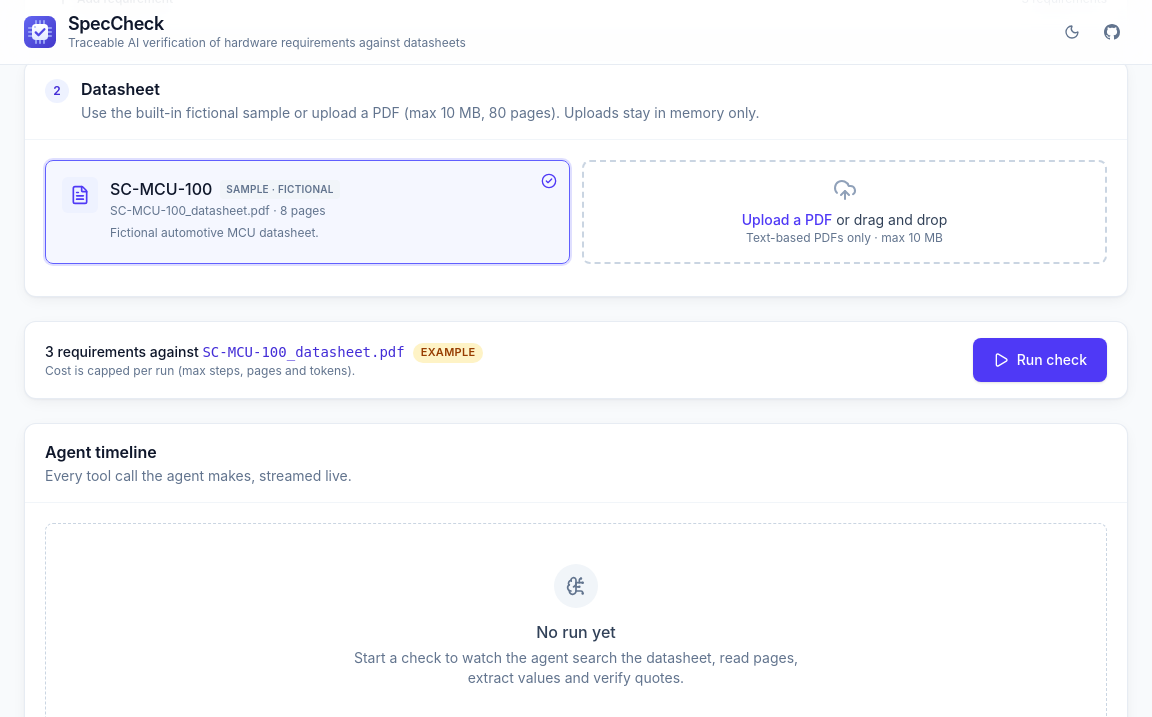
Test case: App flow › reports a failed start
The width and height of the screenshot is (1152, 717).
(page scrolled)
Click the button "Run check". click: x=1040, y=360
box: [973, 338, 1107, 382]
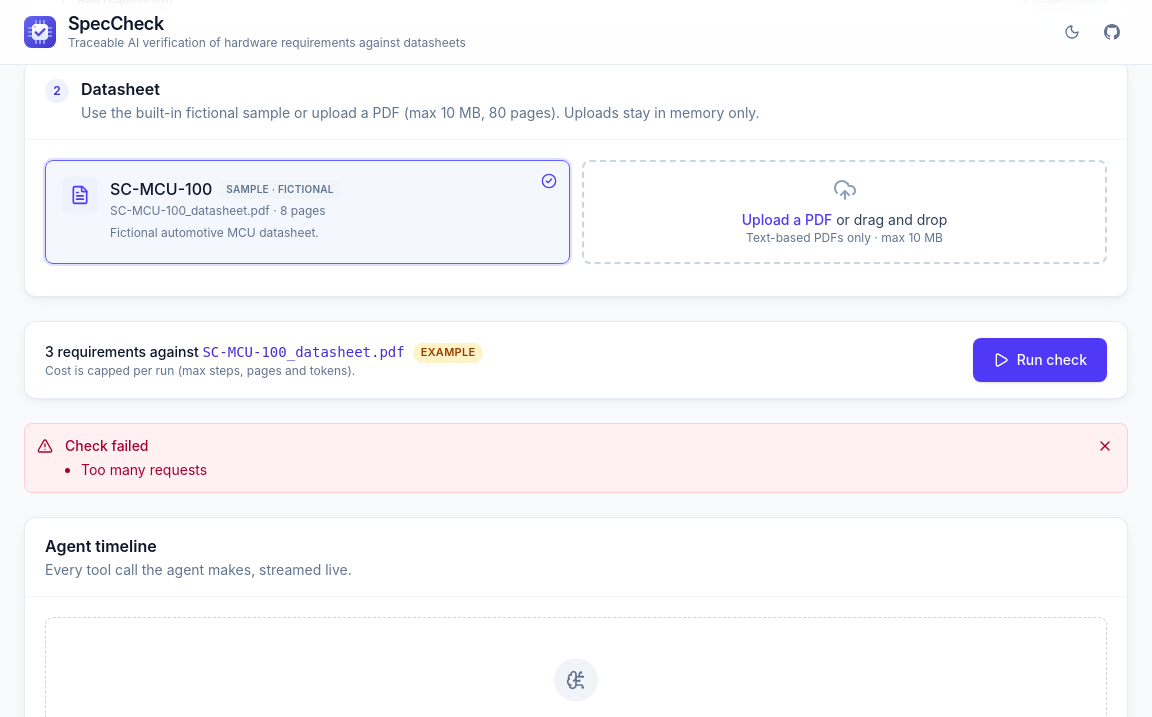
Now the list item "Too many requests" is shown, box [81, 461, 207, 478]
